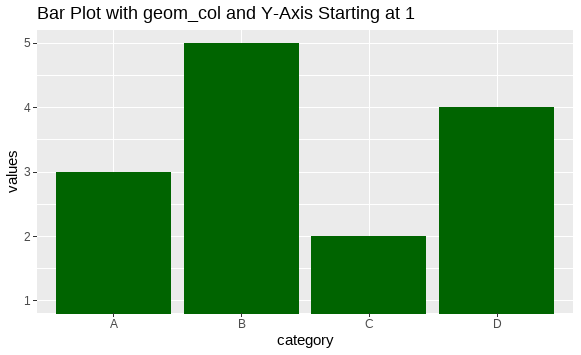S1_AxisNotZero: (1, 19, 580, 327)
